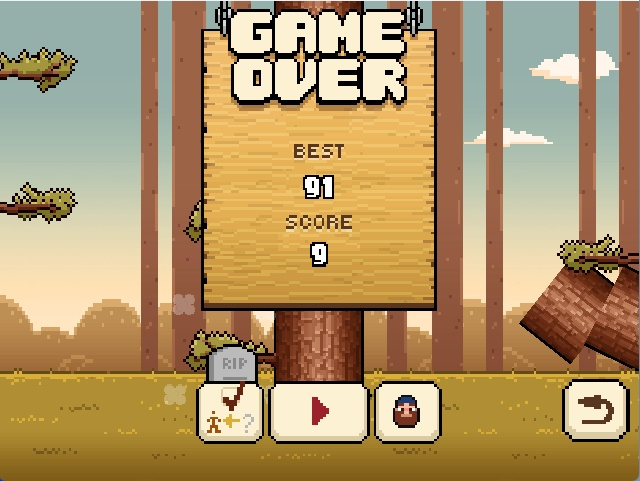game_over: (224, 5, 412, 117)
